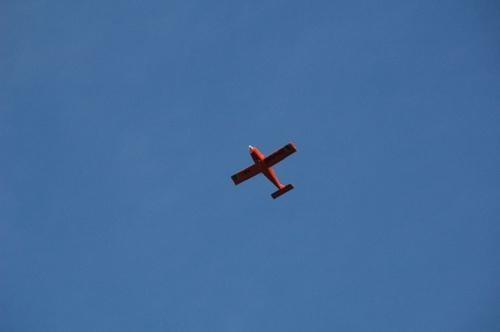aeroplane: (231, 142, 298, 201)
